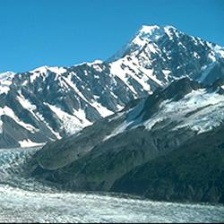neutral: (2, 2, 224, 223)
